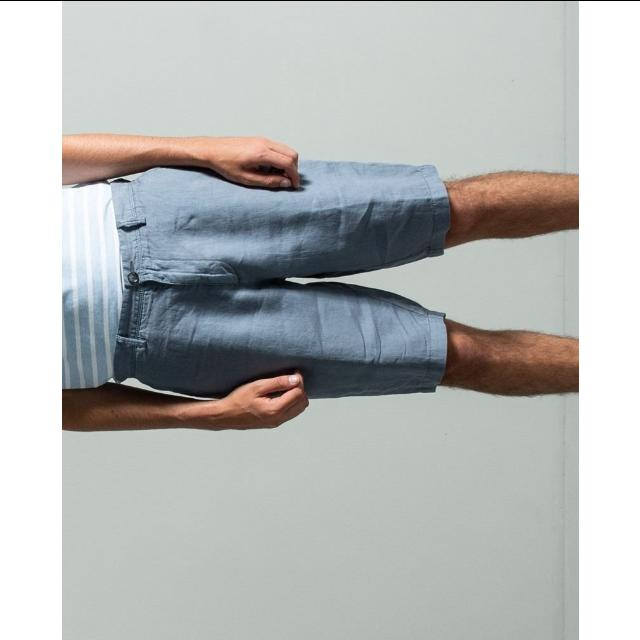linen: (110, 170, 446, 386)
